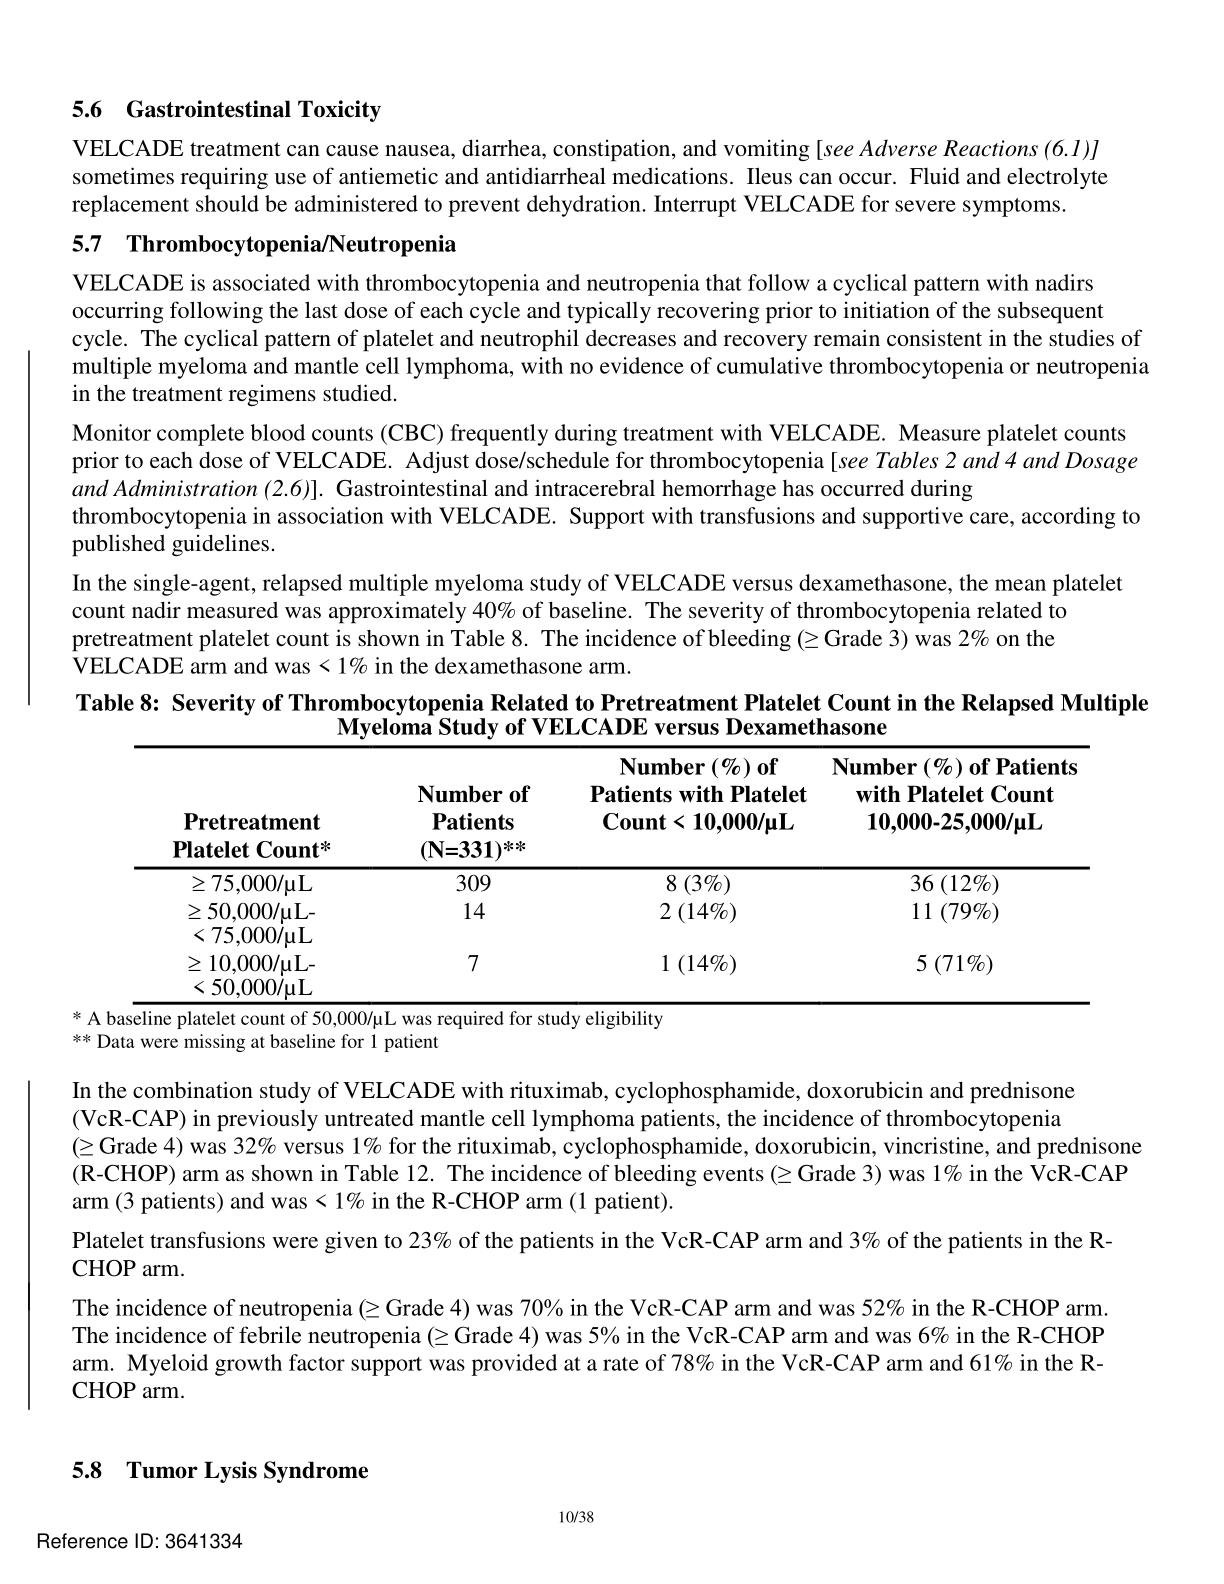partial_lined: (131, 744, 1090, 1005)
